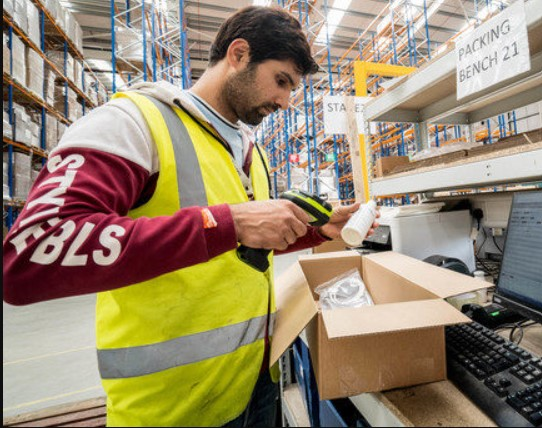worker: (98, 11, 309, 426)
